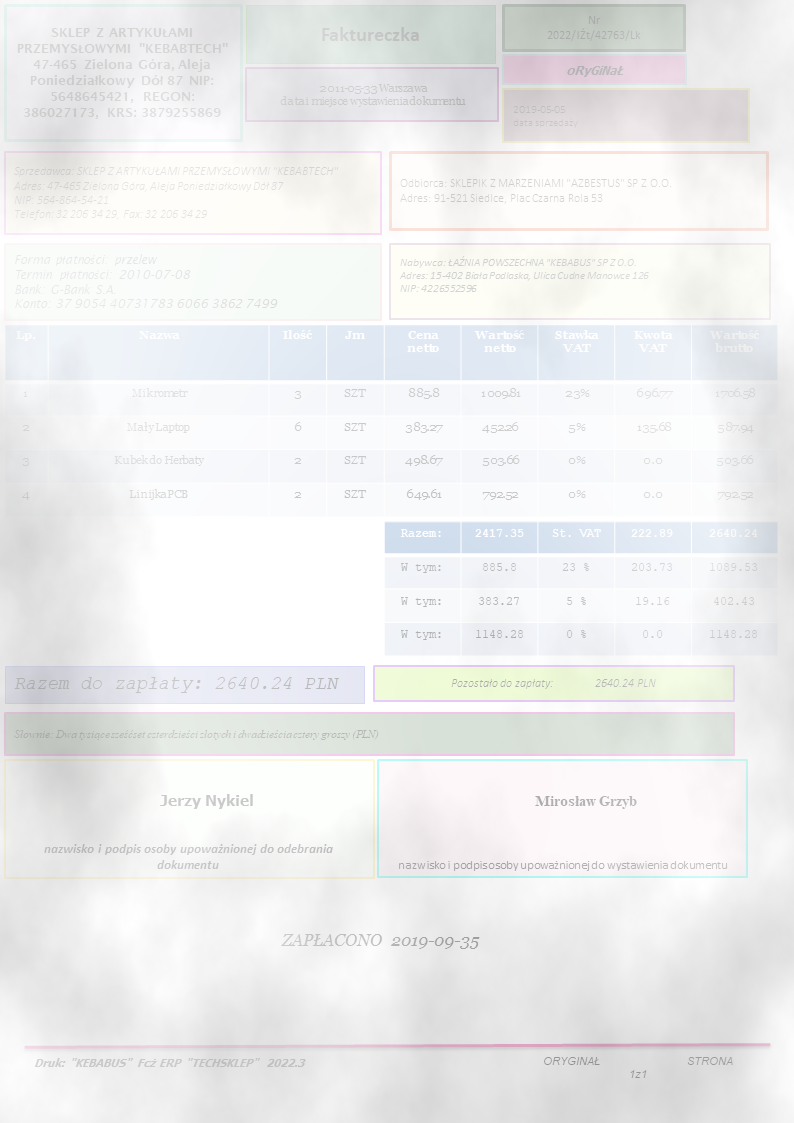Table: (2, 323, 780, 516), (383, 520, 779, 656)
TextBox: (13, 23, 231, 120), (10, 163, 339, 223), (10, 252, 279, 312), (396, 254, 650, 295), (397, 174, 673, 205), (12, 673, 340, 693), (11, 727, 381, 744), (277, 79, 469, 109), (540, 1054, 736, 1080), (277, 930, 481, 952), (33, 1054, 307, 1070), (448, 675, 657, 691), (545, 11, 644, 43), (317, 24, 421, 45), (510, 102, 582, 131), (156, 791, 256, 811), (533, 793, 638, 810), (563, 61, 628, 78)
